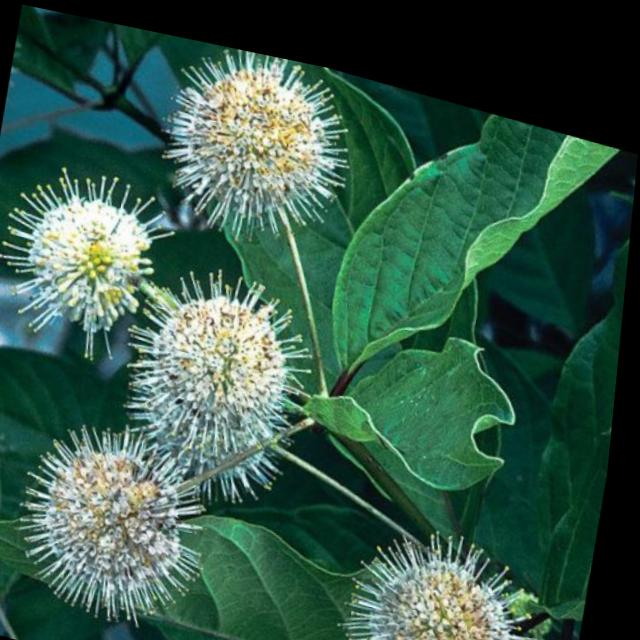Flower: (152, 28, 386, 248), (13, 410, 232, 627), (124, 257, 320, 476), (0, 144, 173, 348), (351, 501, 553, 640)
